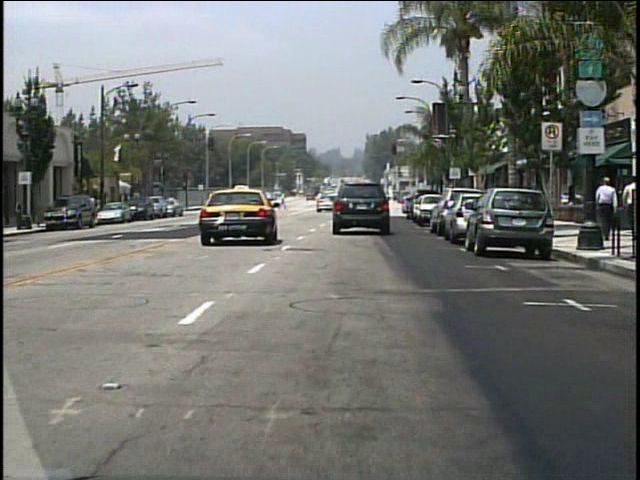person: (596, 174, 619, 243), (619, 175, 637, 239), (280, 192, 292, 213), (320, 192, 321, 212)
